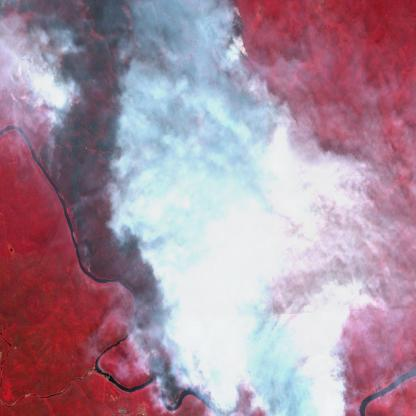fire: (124, 104, 342, 416), (212, 0, 273, 103)
